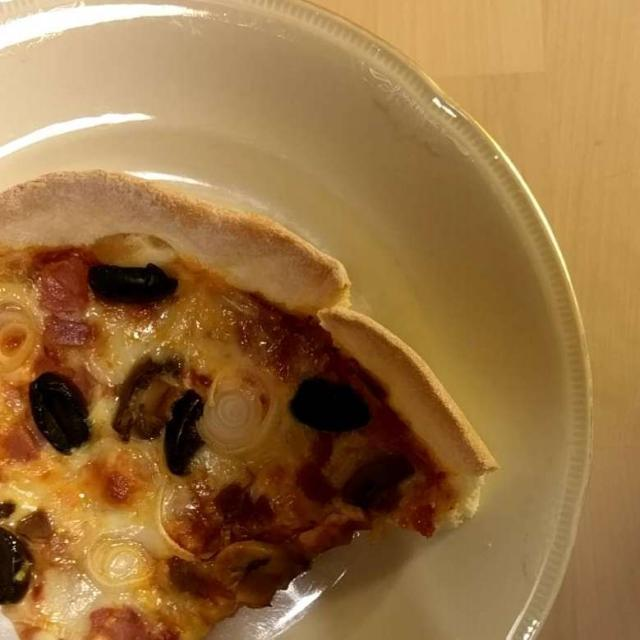black-olives: (0, 269, 408, 606)
